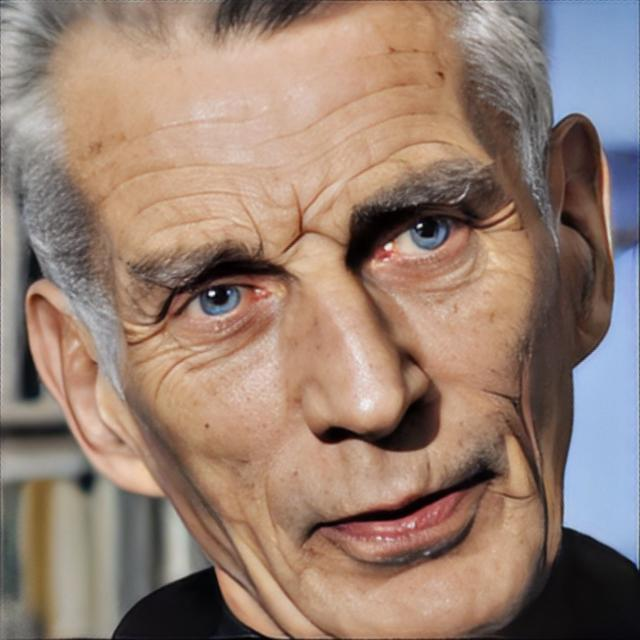content: (39, 0, 576, 640)
